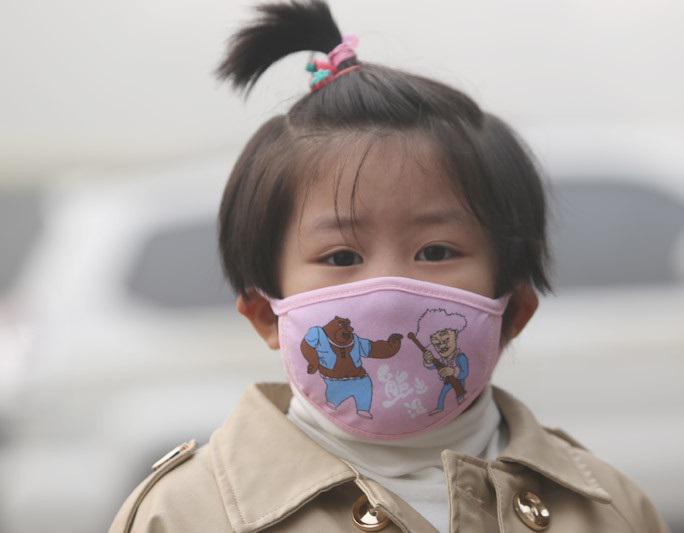OK: (273, 200, 503, 430)
